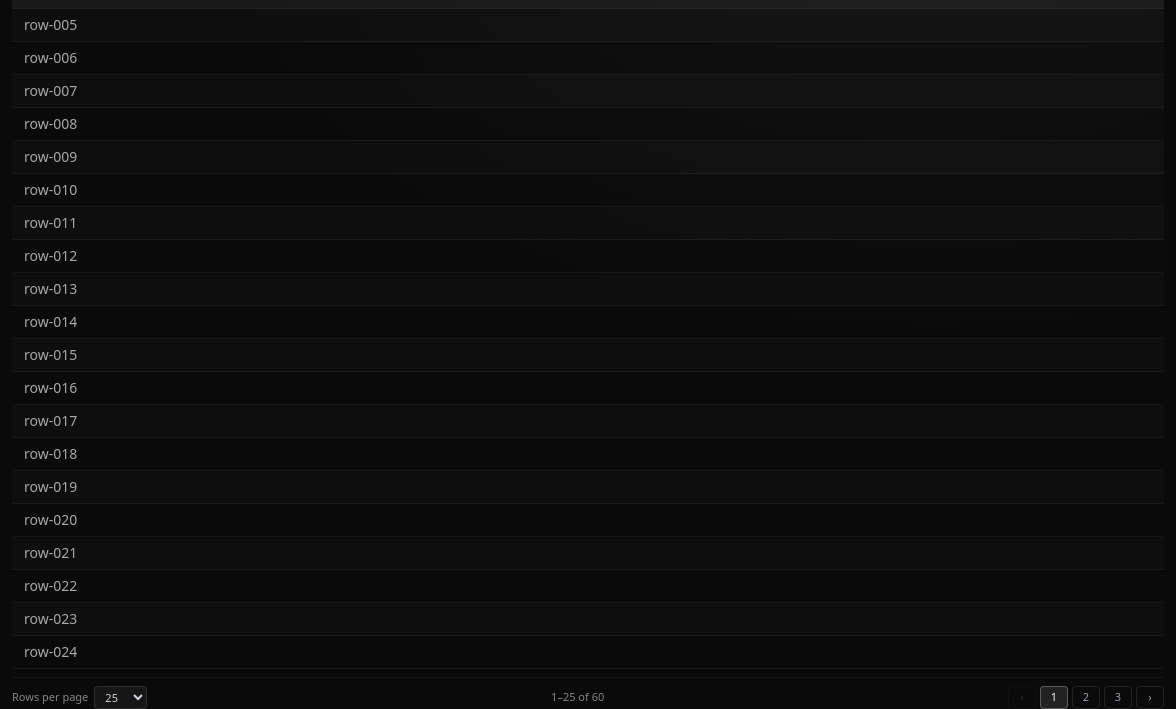
Test: DataTable — pagination › changing rows-per-page returns to the first page
(page scrolled)
Click the button named "Next page": (1150, 698) [1136,686,1164,708]
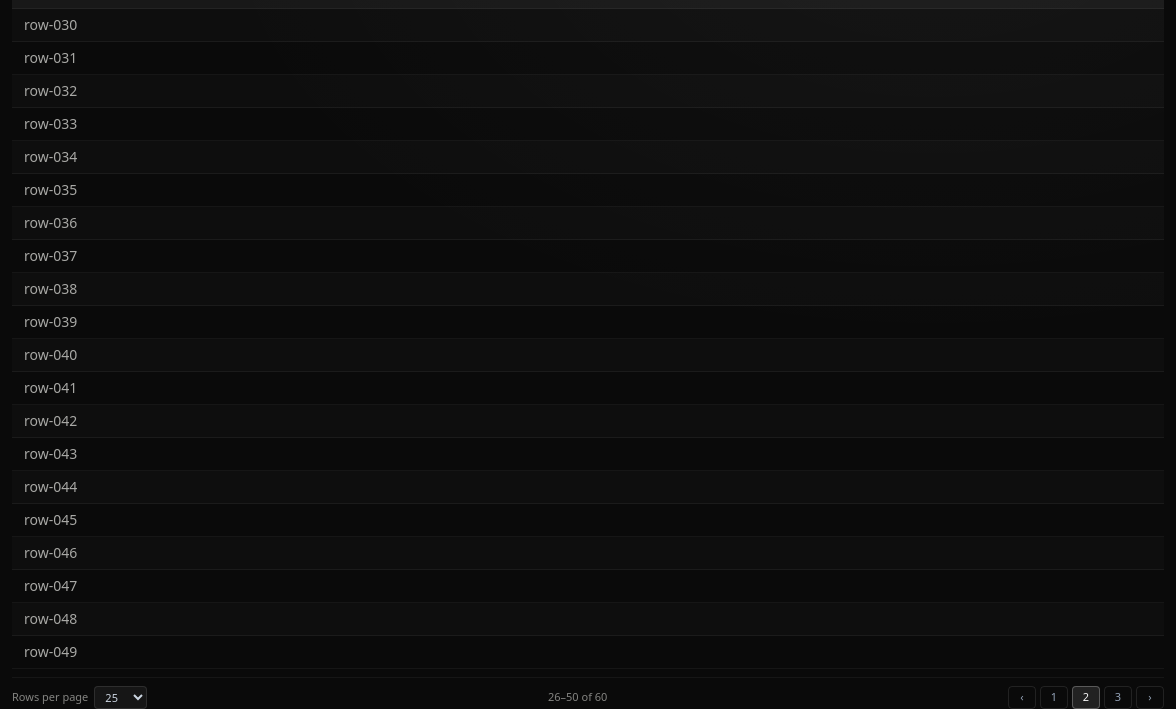
Select "50" in the dropdown labelled "Rows per page": (121, 698) [94,686,147,708]
(page scrolled)
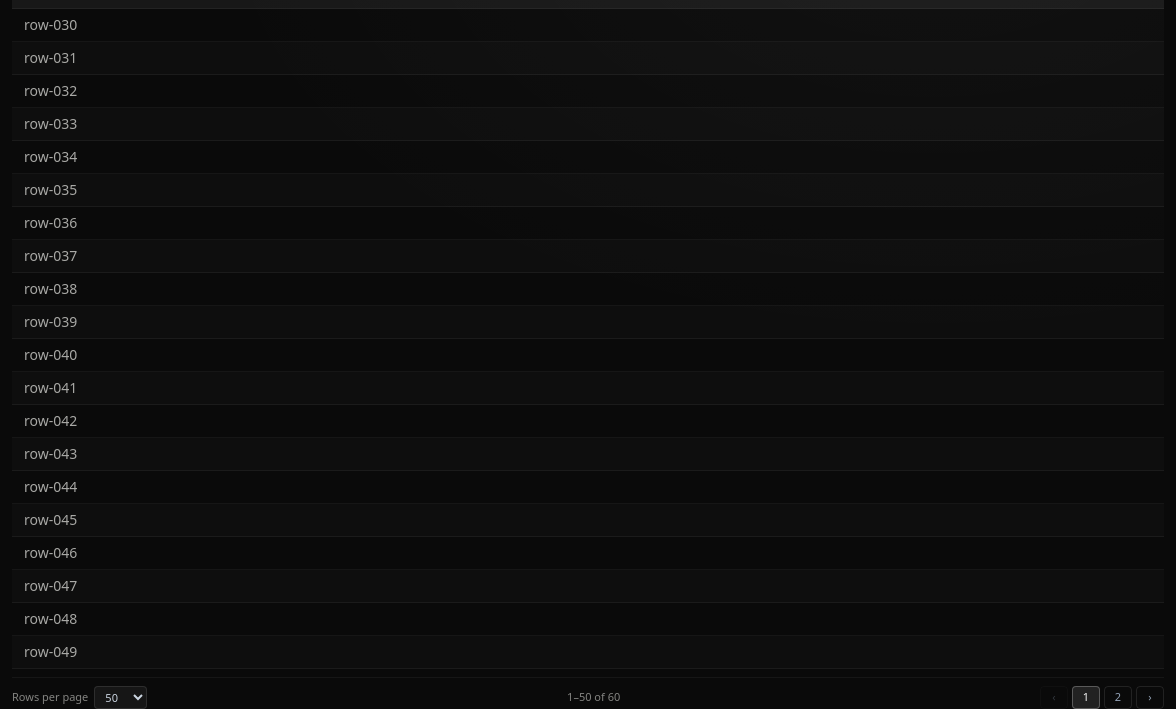
Result: the text "1–50 of 60" is shown at [567,689,620,706]
